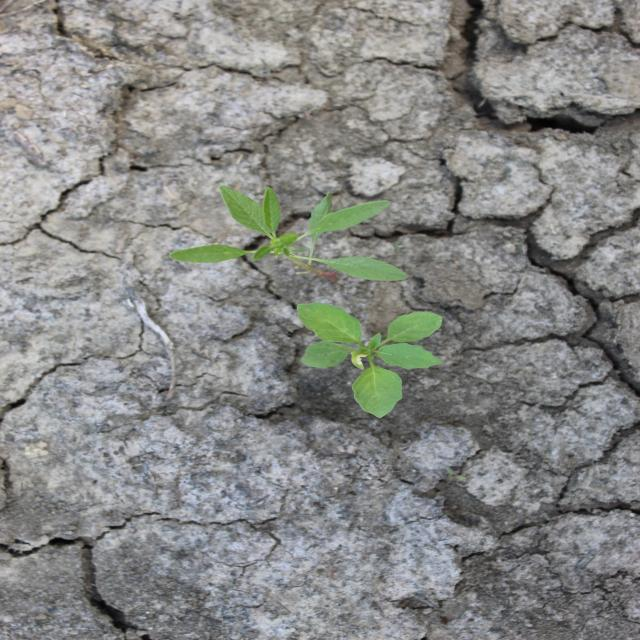CutleafGroundcherry: (292, 300, 448, 420)
Waterhemp: (166, 185, 412, 283)
